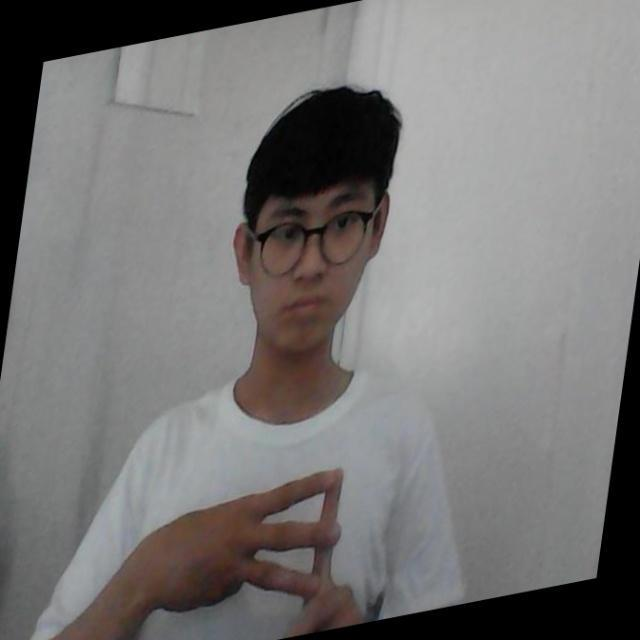B: (209, 462, 370, 640)
